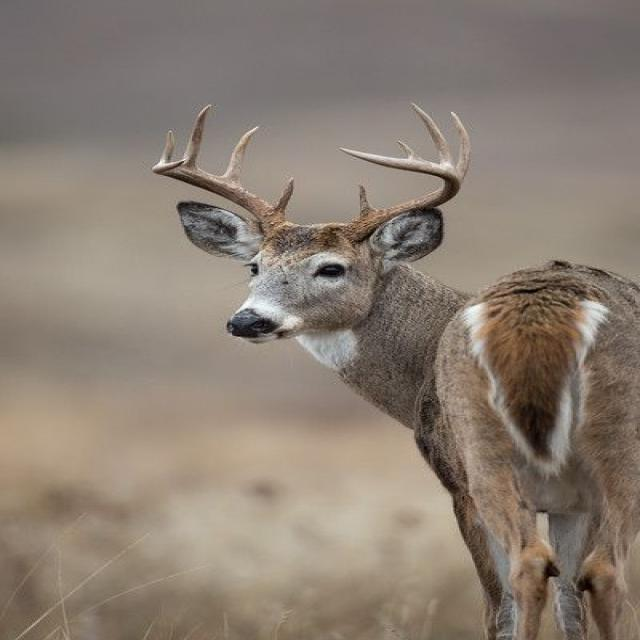L-F: (337, 147, 461, 244)
L-G1: (357, 185, 376, 215)
L-G2: (449, 111, 471, 182)
L-G3: (408, 101, 453, 166)
R-F: (150, 160, 294, 238)
R-G1: (275, 177, 295, 215)
R-G2: (221, 127, 260, 183)
R-G4: (159, 130, 176, 163)
